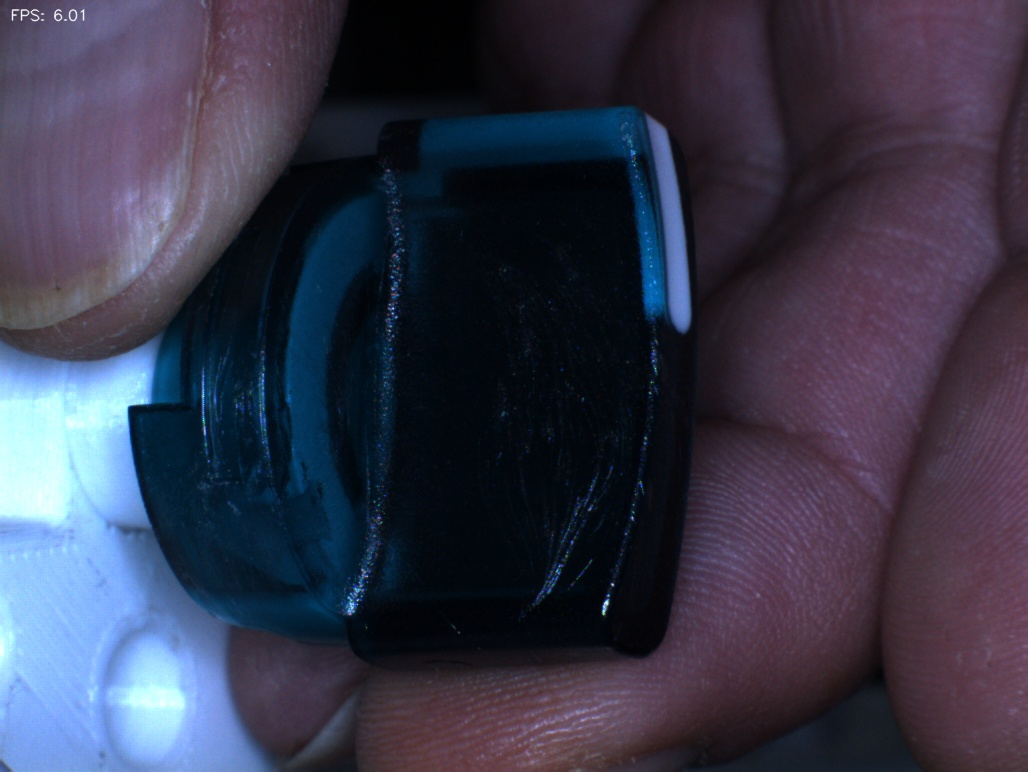Givrage: (479, 243, 629, 612)
